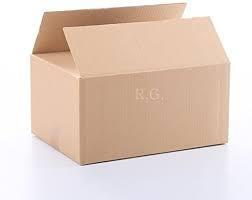box: (30, 2, 231, 166)
